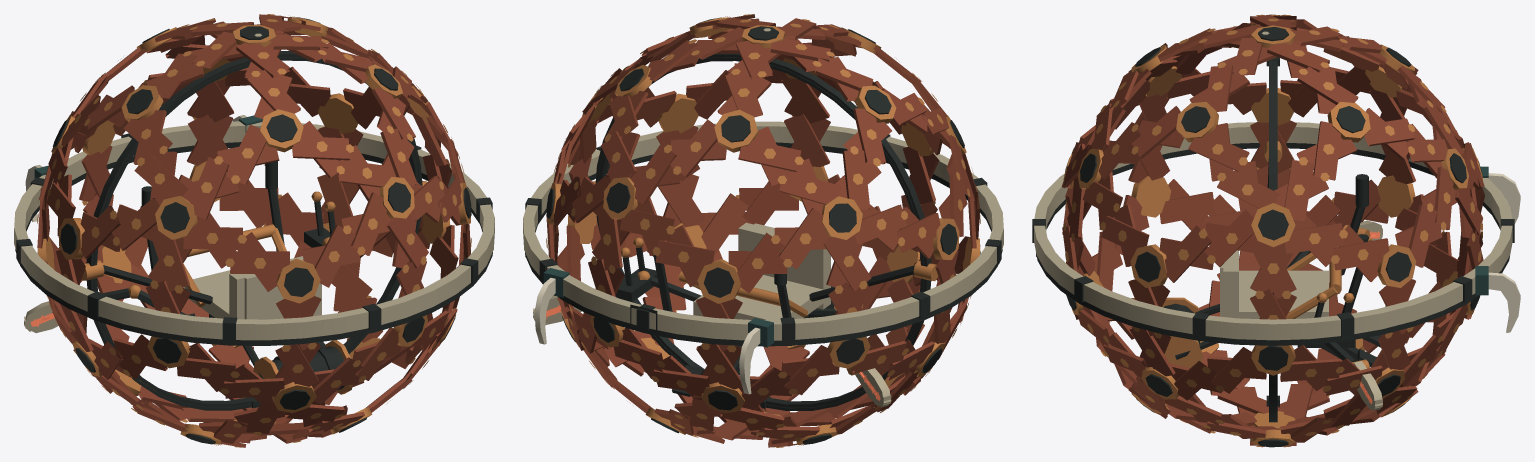
File: shell_tarn.glb
3 views of the same model, side by side, from view 1: azimuth 30°, elevation 25°; view 2: azimuth 150°, elevation 25°; view 3: azimuth 270°, elevation 25° (orthographic).
Visible parts, largest first — view 1: Core, WeaponRing, Pod, Gyro, GyroInner, PullDrum, ClawUpper.L; view 2: Core, WeaponRing, Pod, Gyro, GyroInner, Blade.L, Blade.R, ClawUpper.L; view 3: Core, WeaponRing, Pod, Gyro, Blade.R, Blade.L, ClawUpper.R.
Part boxes in pixels (x1,y1,x2,y2): Core: (37, 14, 471, 447); WeaponRing: (14, 115, 494, 345); Pod: (82, 161, 426, 394); Gyro: (86, 51, 422, 410); GyroInner: (93, 57, 419, 408); PullDrum: (272, 346, 344, 390); ClawUpper.L: (24, 301, 53, 331); Core: (546, 14, 980, 447); WeaponRing: (523, 121, 1003, 347); Pod: (592, 181, 938, 396); Gyro: (595, 53, 931, 410); GyroInner: (599, 57, 924, 408); Blade.L: (739, 327, 760, 394); Blade.R: (534, 278, 555, 344); ClawUpper.L: (861, 368, 891, 407); Core: (1061, 14, 1484, 447); WeaponRing: (1032, 122, 1514, 345); Pod: (1162, 141, 1381, 368); Gyro: (1269, 60, 1277, 422); Blade.R: (1488, 272, 1520, 332); Blade.L: (1488, 173, 1520, 223); ClawUpper.R: (1353, 361, 1382, 410).
Size of the model in its own units: 2.16 by 1.97 by 2.2.
